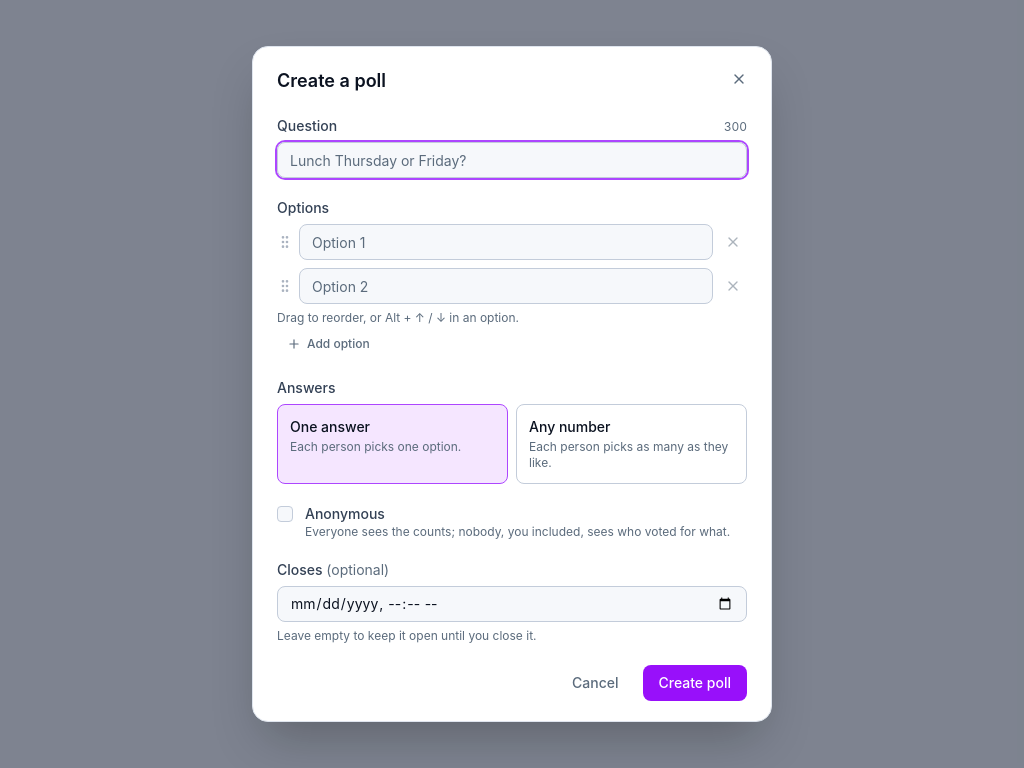
PollDialog › shows what the server refused
Type "Q" into the field with test id "poll-dialog-question" at (512, 160), box [277, 142, 747, 178]
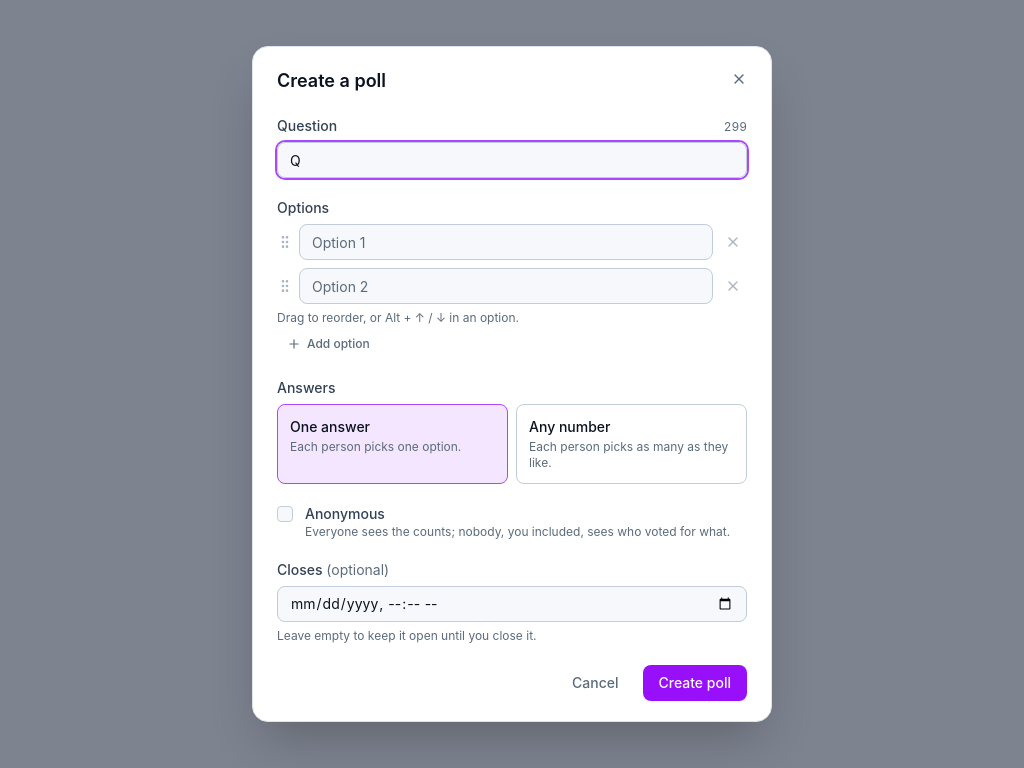
Type "Yes" into the field with test id "poll-dialog-option-0" at (506, 242), box [299, 224, 713, 260]
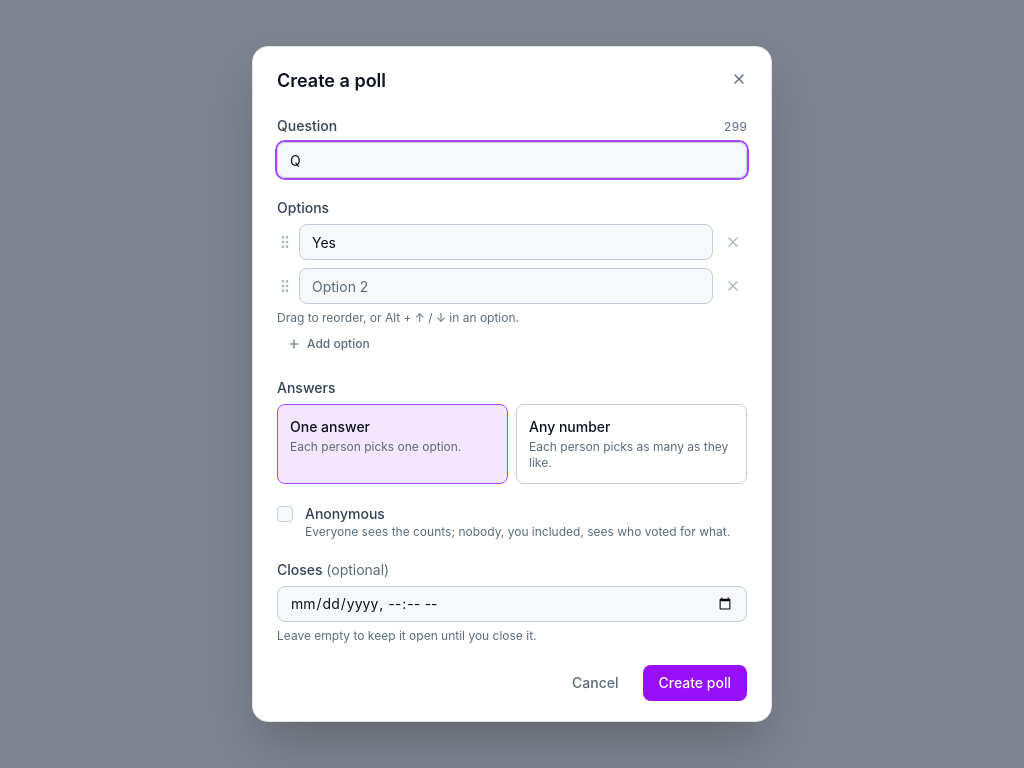
Type "yes" into the field with test id "poll-dialog-option-1" at (506, 286), box [299, 268, 713, 304]
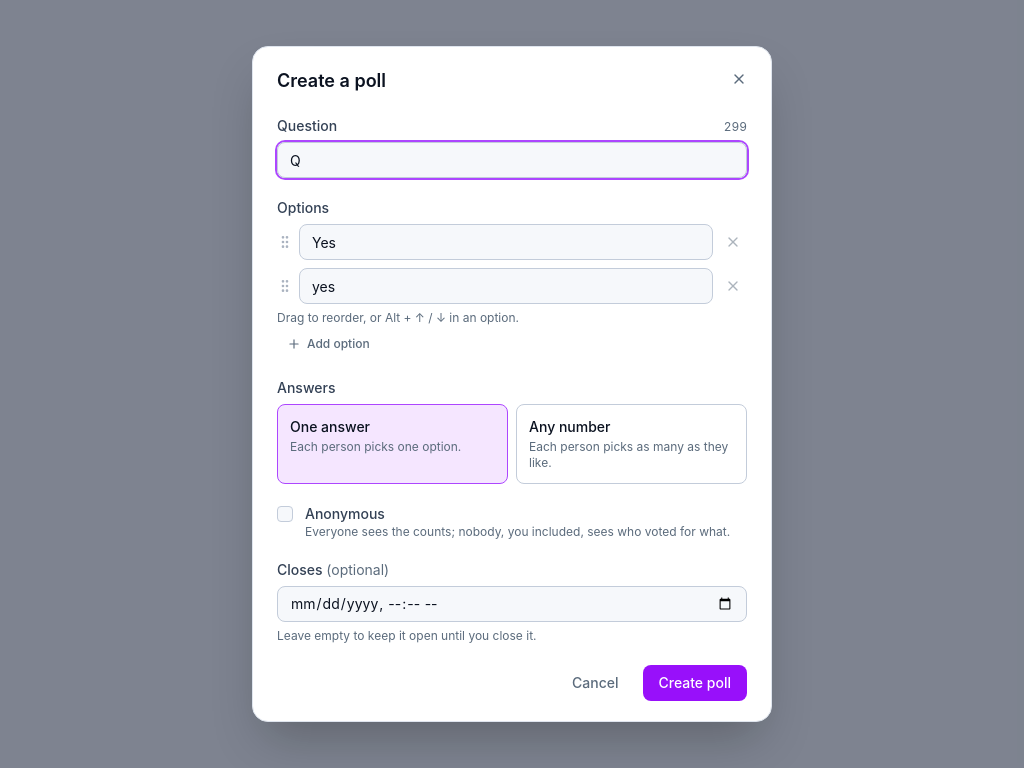
Click the button with test id "poll-dialog-submit" at (695, 683), box [642, 665, 747, 701]
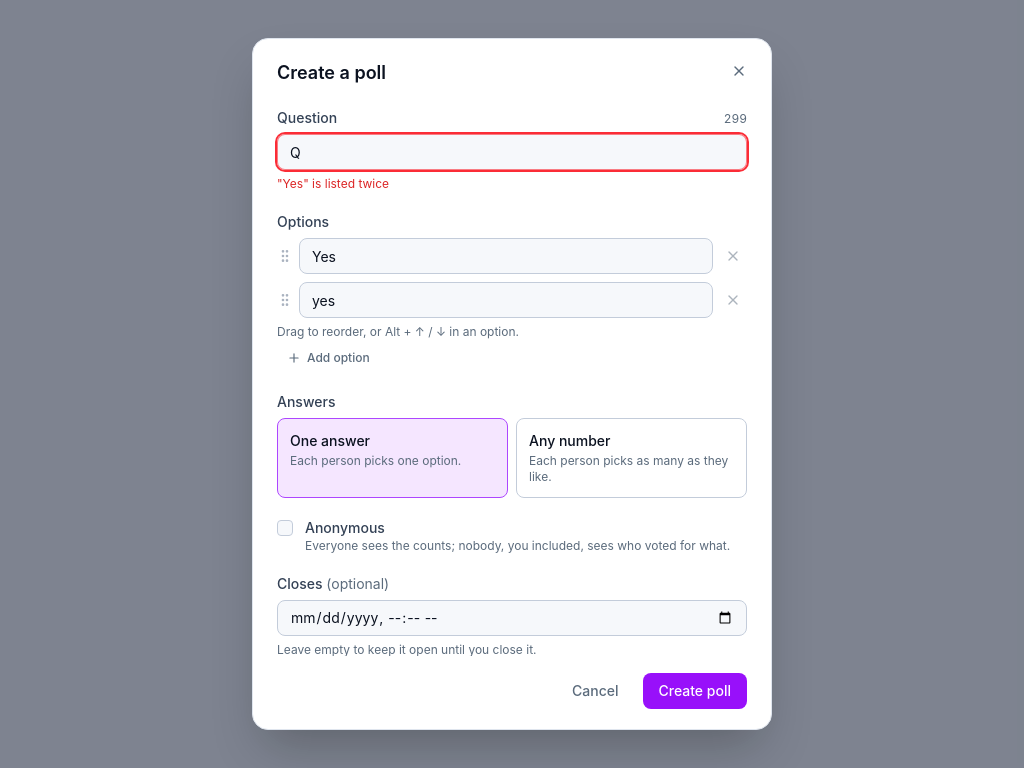
Result: the text "\"Yes\" is listed twice" is shown at [277, 176, 389, 191]
